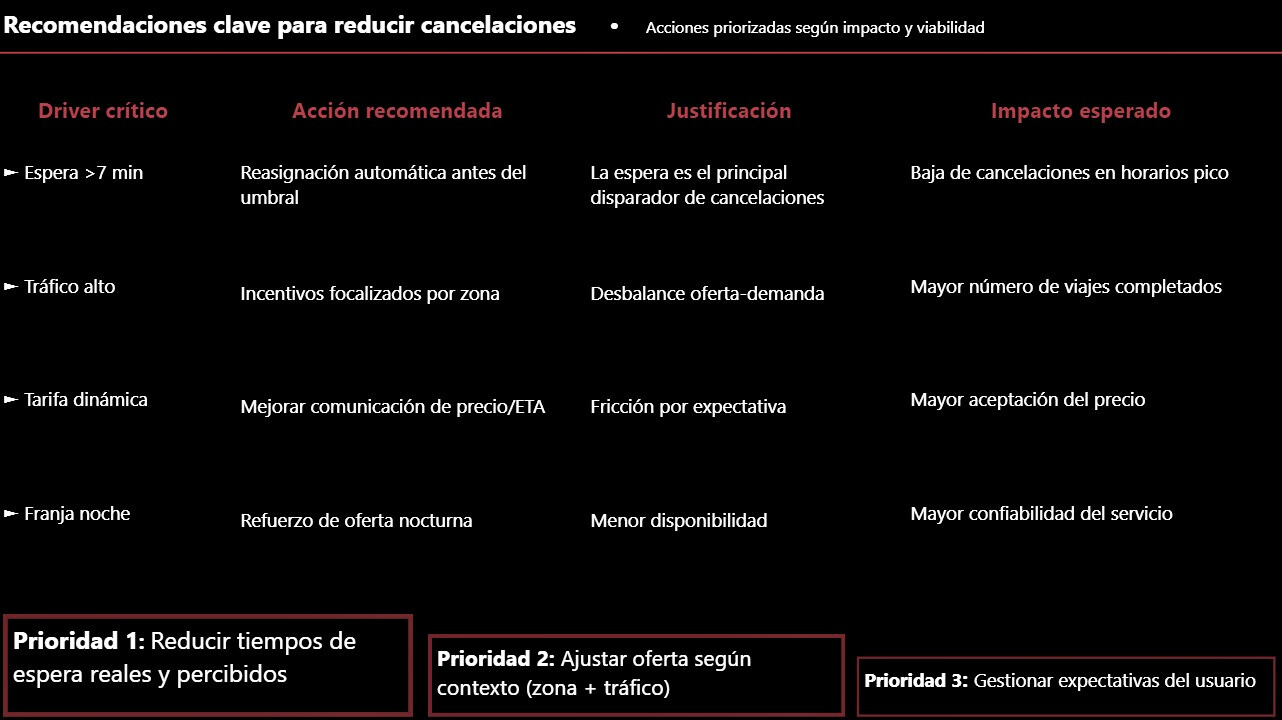

The dashboard page shown, as its layout file describes it:
{"tool":"powerbi","page":{"name":"Plan de acción","canvas":[1280,720],"ordinal":7},"visuals":[{"type":"textbox","box":[0,3.7,1155.6,87.1],"z":1000},{"type":"shape","box":[0,47.3,1280,12.4],"z":2000},{"type":"textbox","box":[0,90.8,209,500.1],"z":3000},{"type":"textbox","box":[235.9,90.8,322.2,500.1],"z":4000},{"type":"textbox","box":[585.1,90.8,292.3,500.1],"z":5000},{"type":"textbox","box":[903.1,90.8,349.6,520],"z":6000},{"type":"textbox","box":[5,612,408,102],"z":7000},{"type":"textbox","box":[427.9,631.9,415.5,82.1],"z":8000},{"type":"textbox","box":[854.6,654.3,416.7,59.7],"z":9000}]}

Visuals, with their boxes in screenshot pixels (x1, y1, x2, y2), scaled from the page's 1280x720 canvas onto the 1282x720 screenshot:
textbox: x1=0, y1=4, x2=1157, y2=91
shape: x1=0, y1=47, x2=1281, y2=60
textbox: x1=0, y1=91, x2=209, y2=591
textbox: x1=236, y1=91, x2=559, y2=591
textbox: x1=586, y1=91, x2=879, y2=591
textbox: x1=905, y1=91, x2=1255, y2=611
textbox: x1=5, y1=612, x2=414, y2=714
textbox: x1=429, y1=632, x2=845, y2=714
textbox: x1=856, y1=654, x2=1273, y2=714
